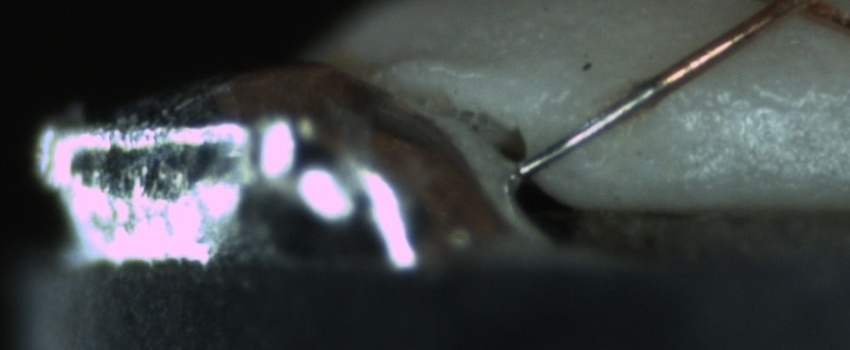CL: (750, 1, 838, 27)
DL: (677, 71, 849, 135)
TS: (523, 78, 665, 179)
